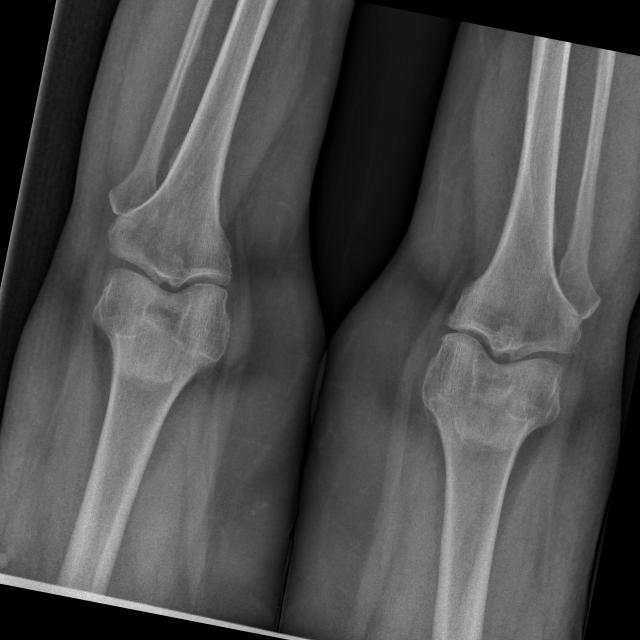Knee: (416, 272, 588, 424), (87, 207, 252, 356)
